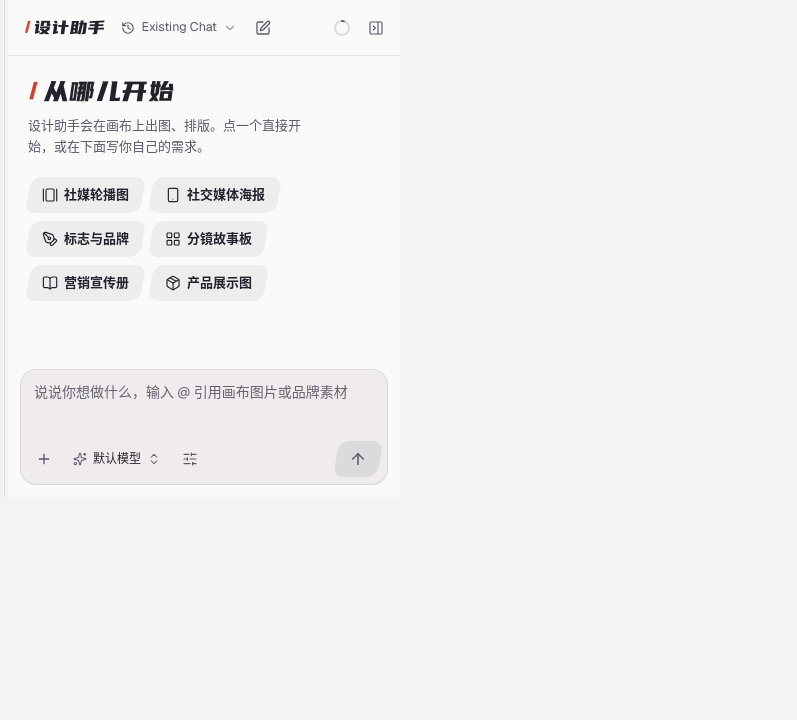
it: ChatSidebar › takes a message back when the run could not go out
Type "画一座灯塔" into the text box with placeholder "说说你想做什么，输入 @ 引用画布图片或品牌素材" at (204, 401), box left=28, top=377, right=380, bottom=425
Then press Enter
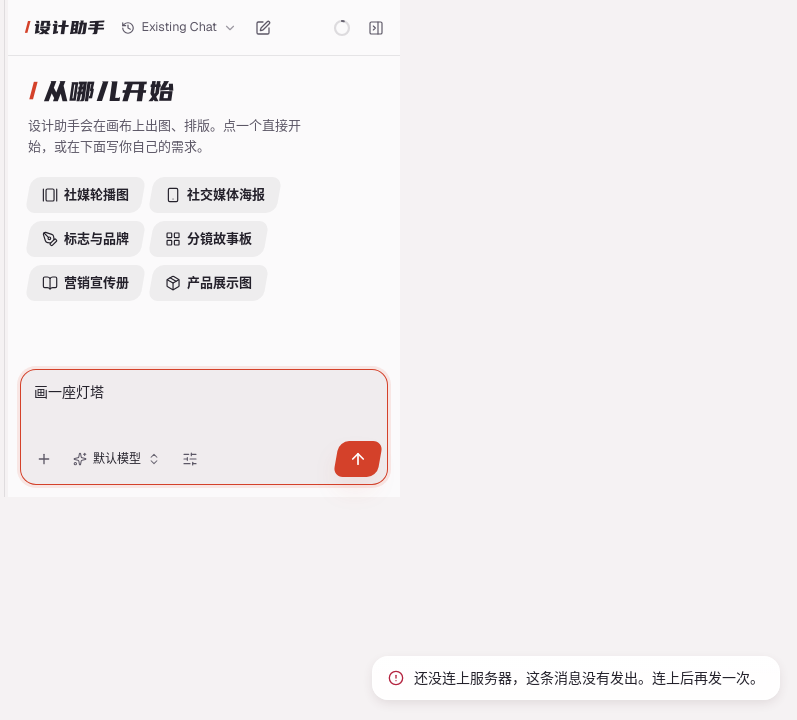
Check: the button named "发送" is shown, box left=333, top=441, right=383, bottom=477
Check: the text "还没连上服务器，这条消息没有发出。连上后再发一次。" is shown, box left=414, top=668, right=764, bottom=688
